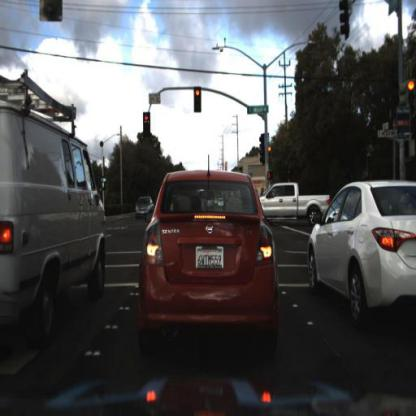car: (0, 70, 112, 332), (140, 169, 276, 349), (302, 173, 415, 318), (257, 180, 331, 229), (257, 177, 332, 221), (134, 193, 154, 220)
trafficLight-Red: (404, 78, 416, 113), (193, 86, 201, 115), (406, 76, 416, 94), (264, 144, 272, 161)
trafficLight-RedLeft: (142, 110, 150, 140), (144, 110, 150, 126)
truck: (1, 73, 107, 330)
